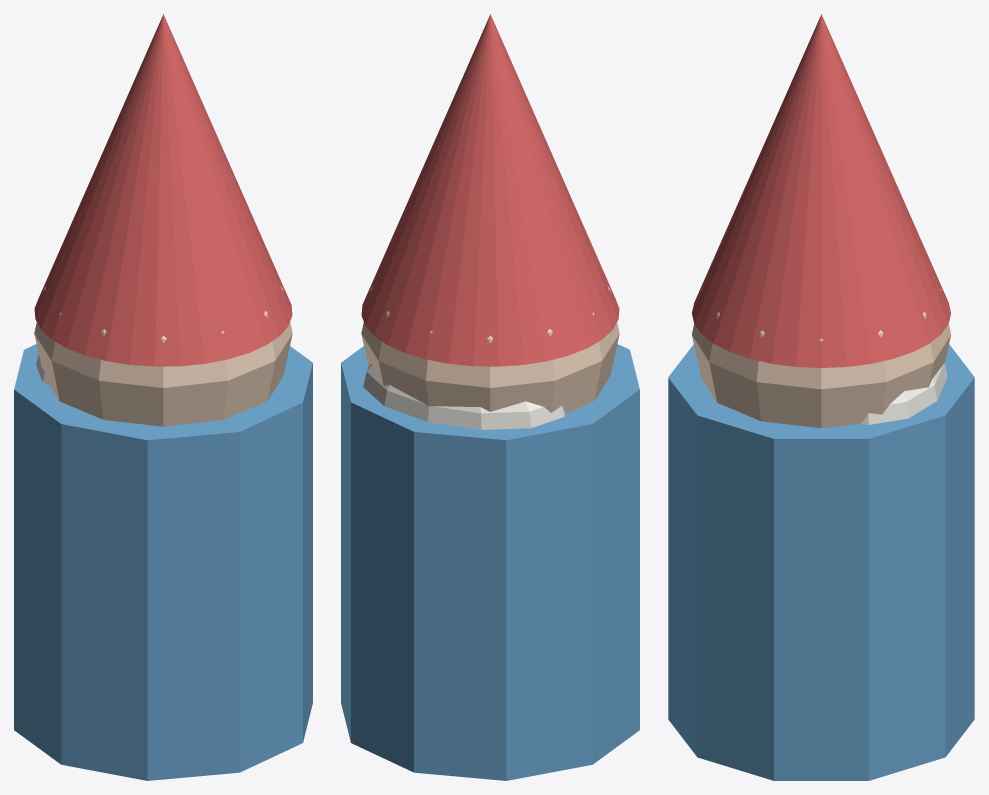
File: garden-gnome.glb
3 renders of one model, left to right at view 1: azimuth 30°, elevation 25°; view 2: azimuth 150°, elevation 25°; view 3: azimuth 270°, elevation 25°, orthographic.
Parts seen in each view (by area): view 1: garden_gnome; view 2: garden_gnome; view 3: garden_gnome.
Boxes of the visible parts, x1,y1,x2,y2 form: garden_gnome: (14,14,312,780); garden_gnome: (341,14,639,780); garden_gnome: (668,14,974,780).
Bounding box in the file's own units: 0.2473 × 0.66 × 0.26.
